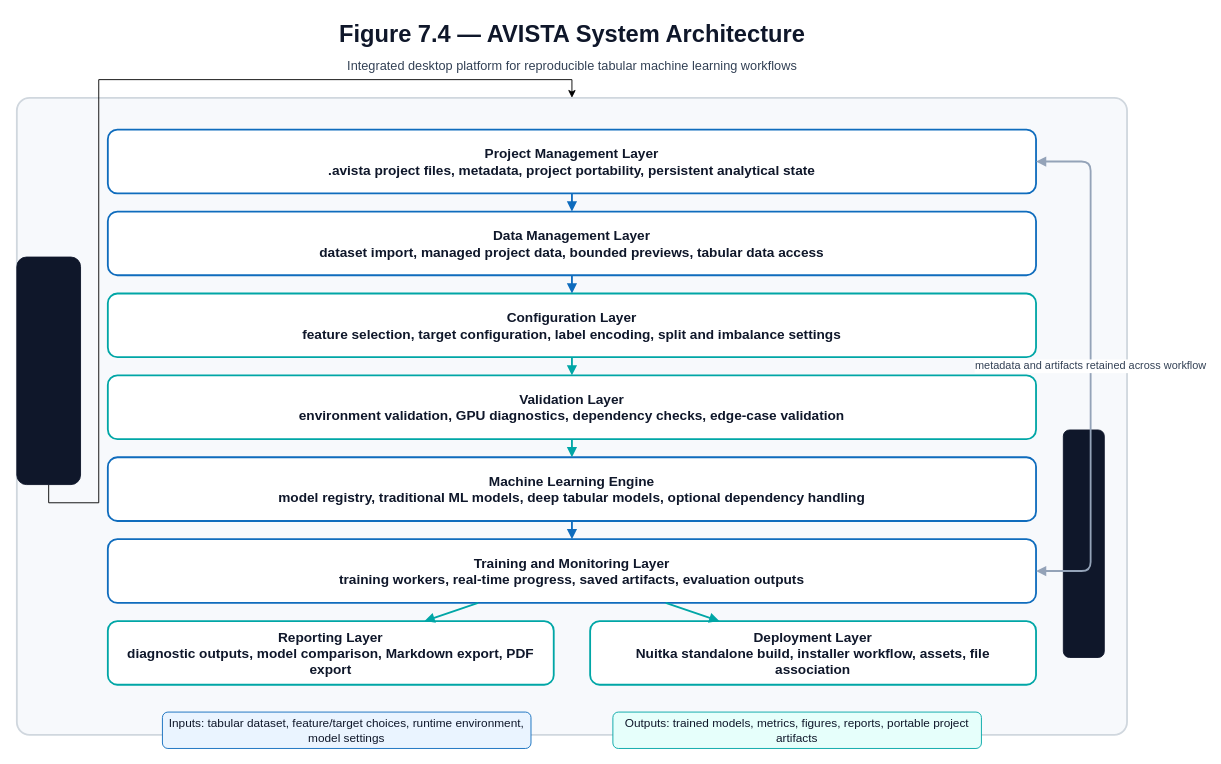
Image size: 1221x764. Some labels were removed from this diagram. Each missing label, with the centre of its shape:
Generated Artifacts: point 1083,543
Persistent Project State: point 48,370
